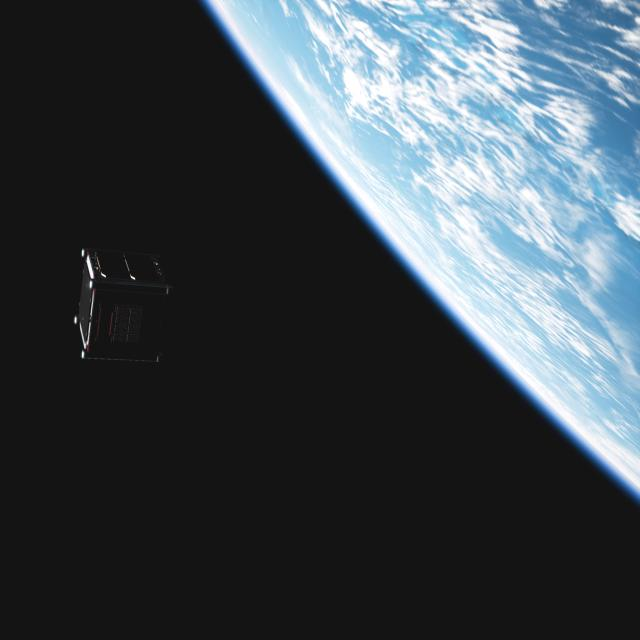satellite: (70, 239, 180, 367)
